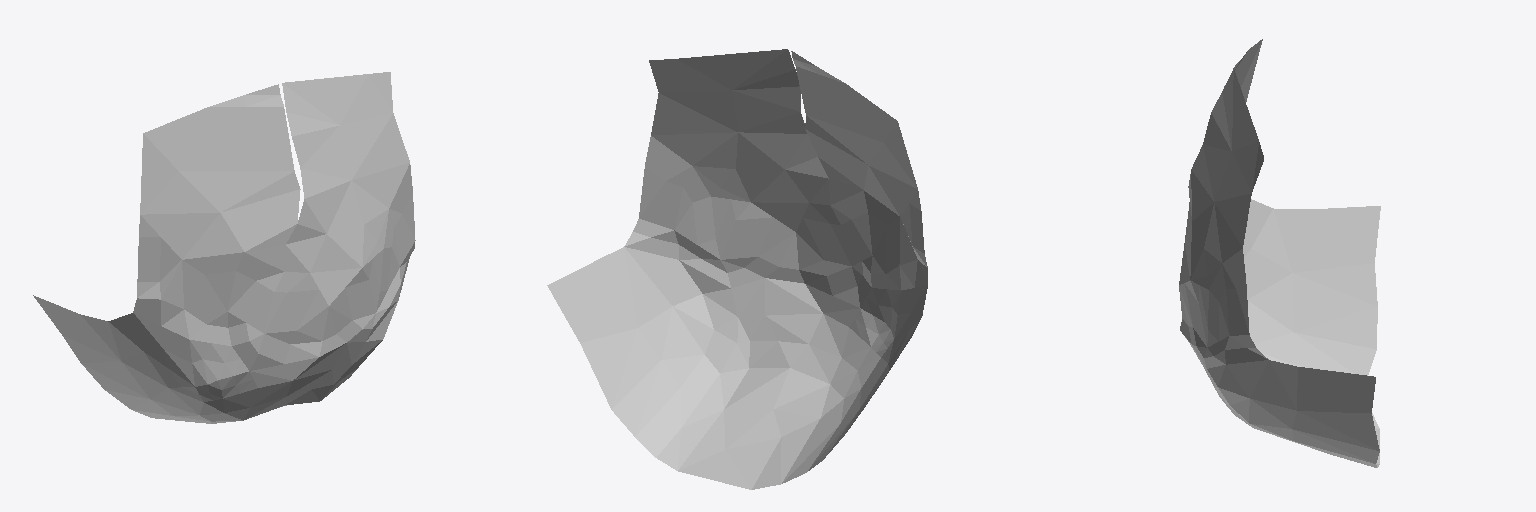
The model's file is growth_mesh_hairline5.obj.
3 views of the same model, side by side, from view 1: azimuth 30°, elevation 25°; view 2: azimuth 150°, elevation 25°; view 3: azimuth 270°, elevation 25° (orthographic).
Parts seen in each view (by area): view 1: growth_mesh1.001; view 2: growth_mesh1.001; view 3: growth_mesh1.001.
Boxes of the visible parts, x1,y1,x2,y2 form: growth_mesh1.001: [33, 72, 415, 423]; growth_mesh1.001: [547, 49, 927, 489]; growth_mesh1.001: [1179, 39, 1380, 467].
Bounding box in the file's own units: 43.6 × 45.69 × 22.1.